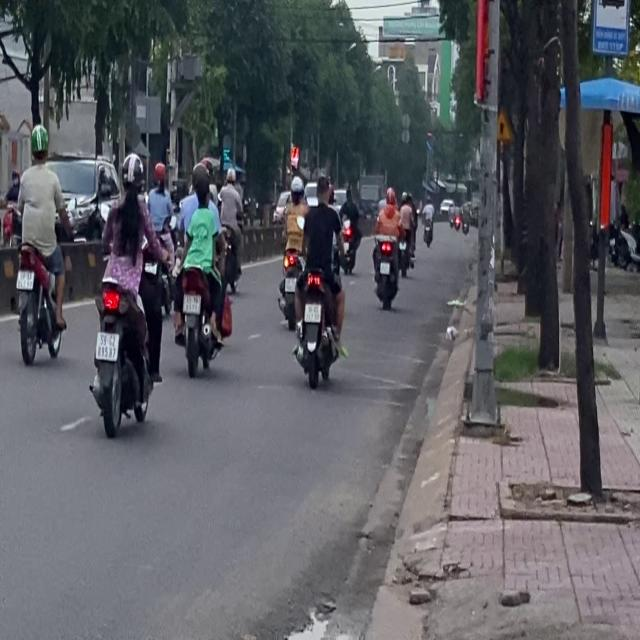helmet: (120, 151, 144, 193), (28, 123, 49, 163), (191, 161, 210, 190)
licenseplate: (89, 148, 161, 436), (12, 122, 68, 365), (172, 158, 231, 376), (292, 173, 348, 386)
motorcyclist: (194, 175, 212, 213), (314, 175, 330, 204)
nohelmet: (96, 332, 118, 360), (16, 270, 34, 289), (304, 304, 321, 323), (183, 294, 200, 313)
